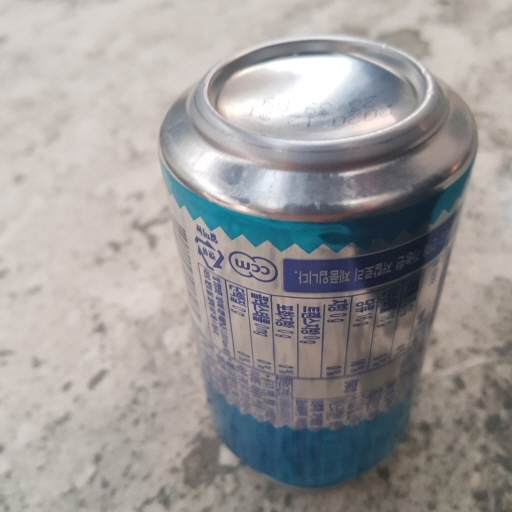Metal_0: (156, 34, 477, 490)
